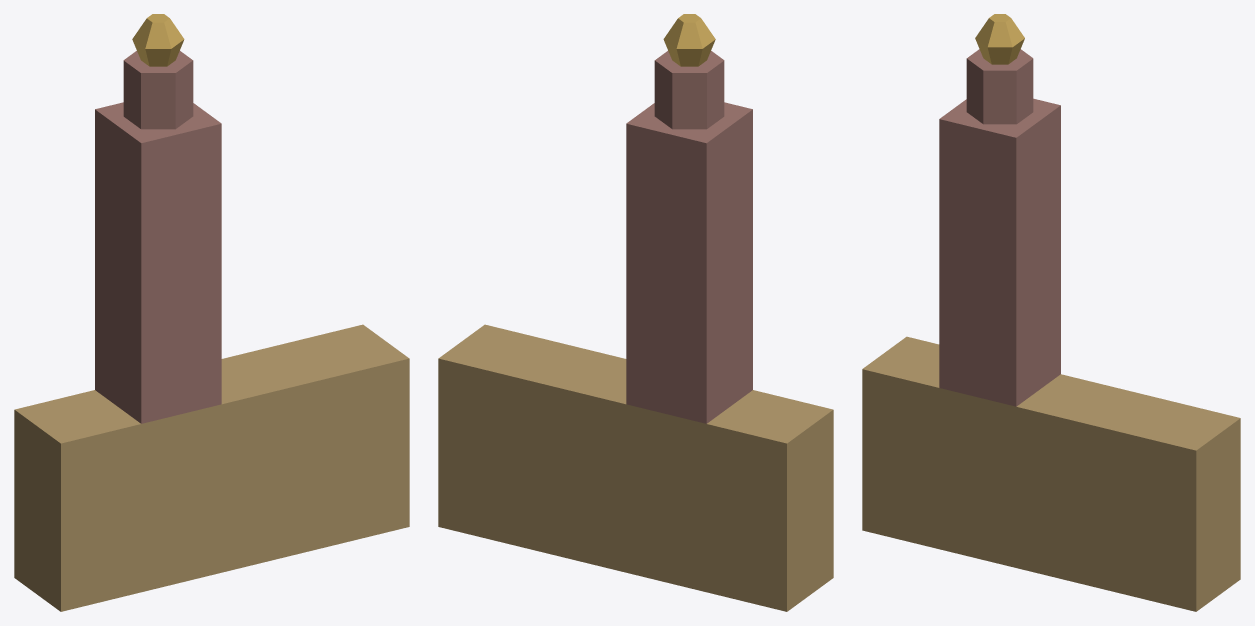
File: monasterio_san_agustin.glb
3 renders of one model, left to right at view 1: azimuth 30°, elevation 25°; view 2: azimuth 150°, elevation 25°; view 3: azimuth 330°, elevation 25°, orthographic. The views are drawn at different scales.
Parts seen in each view (by area): view 1: Plane, Circle; view 2: Plane, Circle; view 3: Plane, Circle.
Boxes of the visible parts, x1=… form: Plane: x1=14, y1=102, x2=409, y2=611; Circle: x1=123, y1=14, x2=193, y2=129; Plane: x1=438, y1=102, x2=833, y2=611; Circle: x1=654, y1=14, x2=724, y2=129; Plane: x1=862, y1=98, x2=1240, y2=611; Circle: x1=966, y1=14, x2=1033, y2=124.
Bounding box in the file's own units: 26 × 39 × 6.
